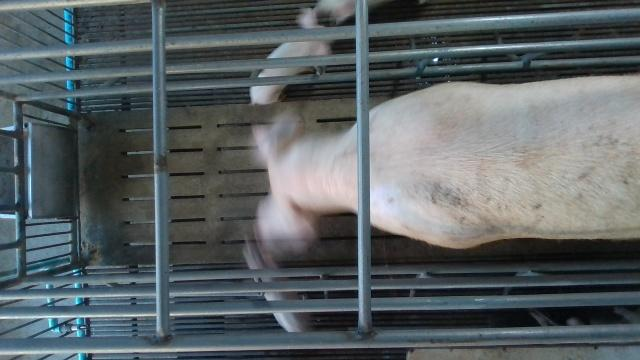piglet: (249, 6, 331, 104), (240, 233, 312, 332)
sow-stand: (255, 75, 640, 252)
